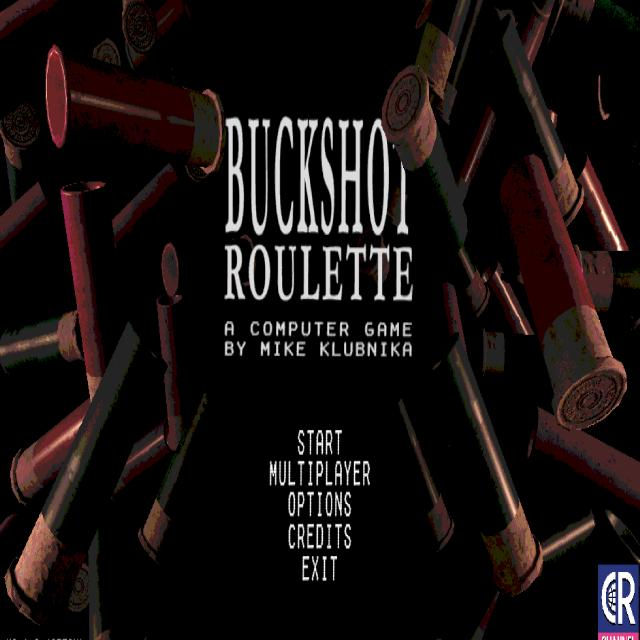startbtn: (280, 408, 362, 462)
